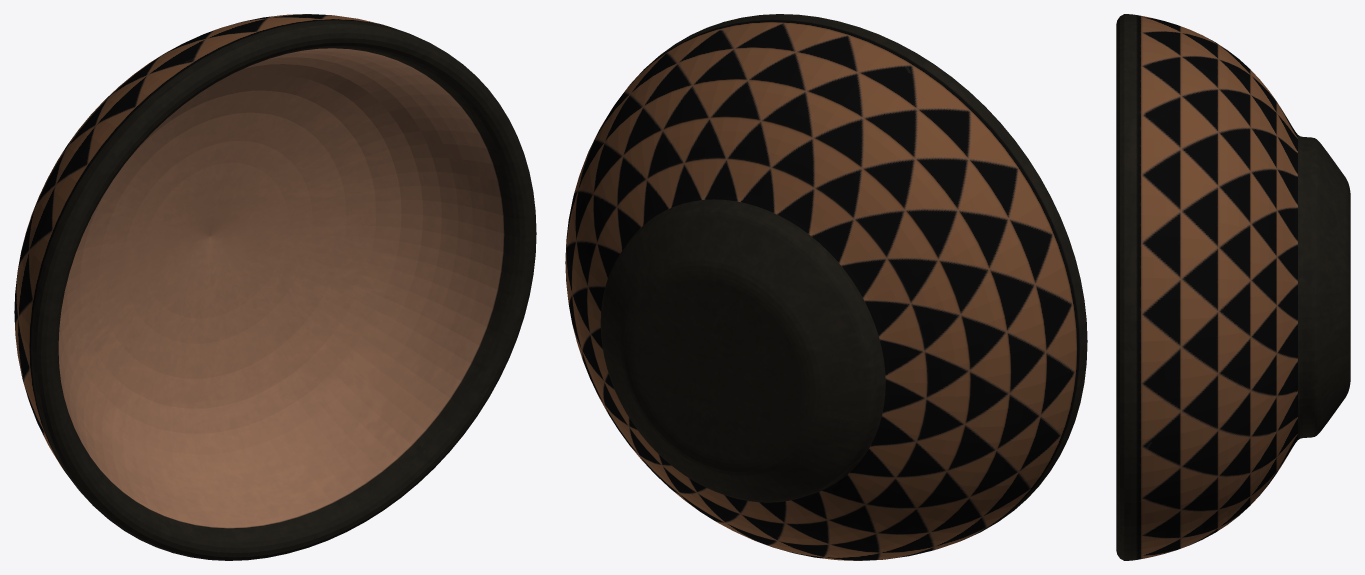
3 views of the same model, side by side, from view 1: azimuth 30°, elevation 25°; view 2: azimuth 150°, elevation 25°; view 3: azimuth 270°, elevation 25° (orthographic). The views are drawn at different scales.
Visible parts, largest first — view 1: geometry_0; view 2: geometry_0; view 3: geometry_0.
Part boxes in pixels (<box>): geometry_0: <box>14,14,536,560</box>; geometry_0: <box>565,14,1087,560</box>; geometry_0: <box>1116,14,1350,560</box>.
Size of the model in its own units: 0.1467 by 0.1467 by 0.0629.
Materials: 1 (1 with a texture image).
